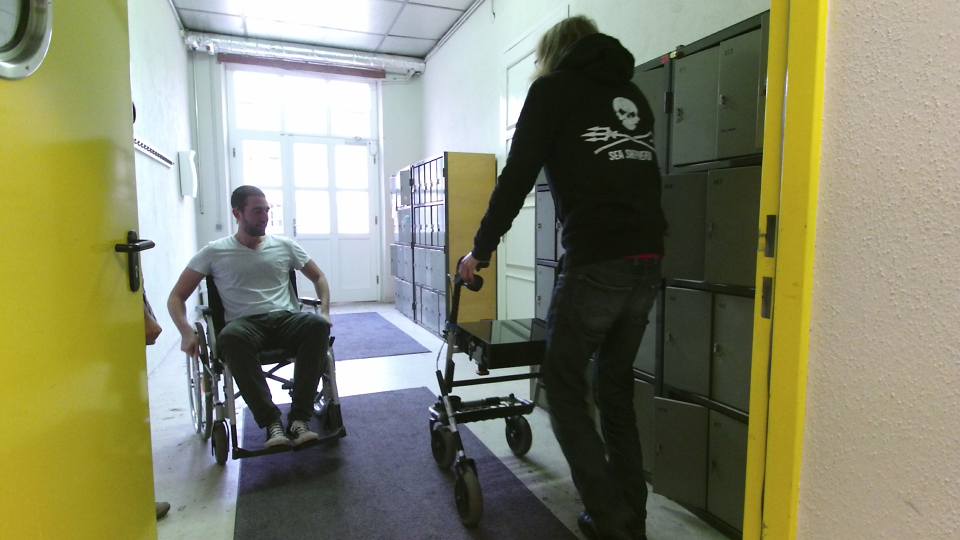wheelchair: (166, 177, 352, 471)
